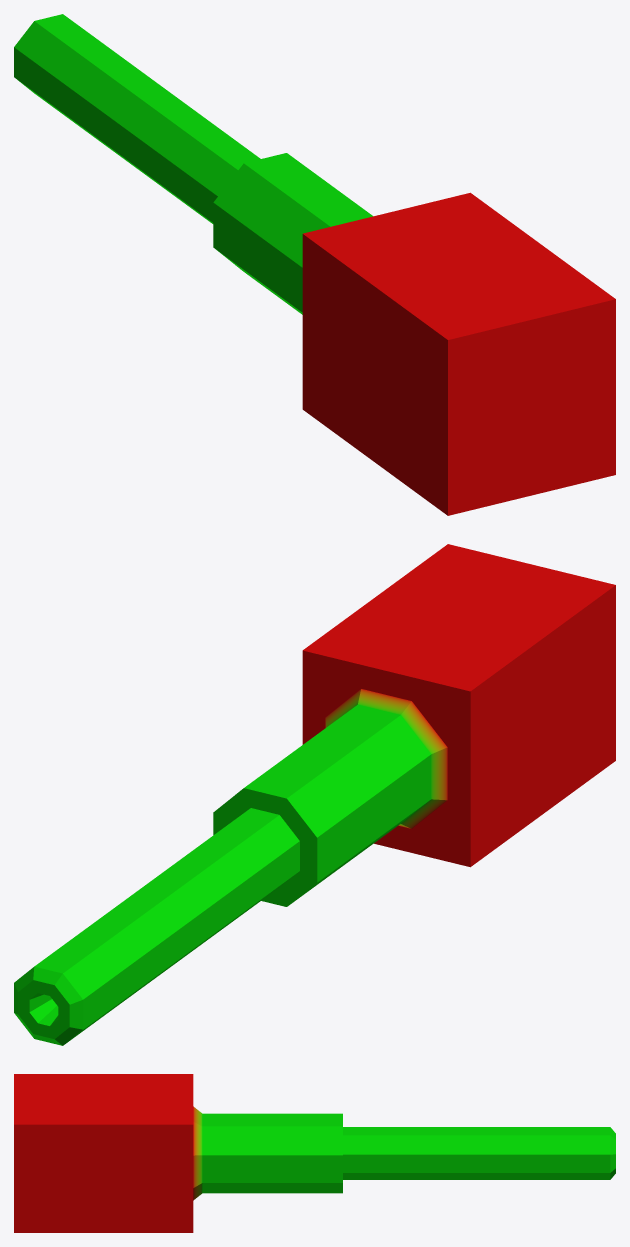
File: autocannon-small.glb
3 renders of one model, top to bottom at view 1: azimuth 30°, elevation 25°; view 2: azimuth 150°, elevation 25°; view 3: azimuth 270°, elevation 25°, orthographic. The views are drawn at different scales.
Visible parts, largest first — view 1: WeaponModel; view 2: WeaponModel; view 3: WeaponModel.
Boxes of the visible parts, x1,y1,x2,y2 form: WeaponModel: (14, 14, 615, 515); WeaponModel: (14, 544, 615, 1045); WeaponModel: (14, 1074, 615, 1232).
Bounding box in the file's own units: 0.8 × 0.8 × 4.03.
